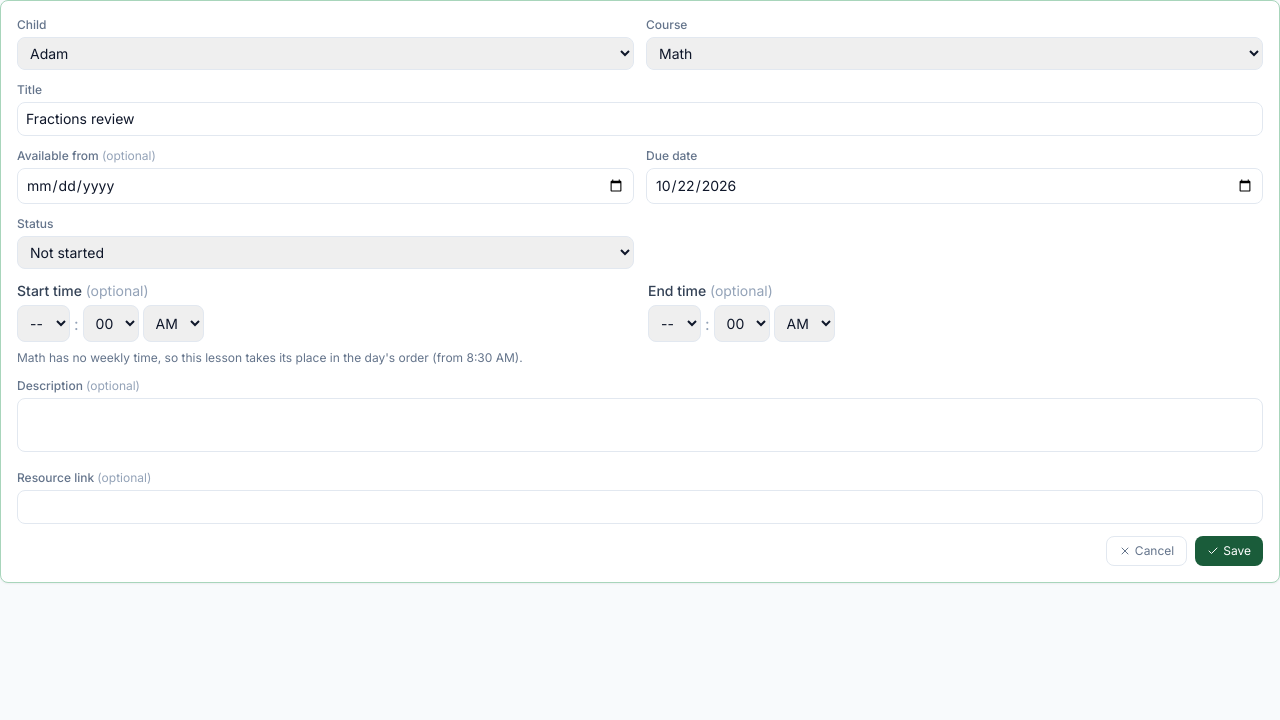
Test: LessonCard inline editor — lesson times › rejects a start time without an end time and does not save
Select "1" in the dropdown named "Start time hour": (44, 324) [17,305,70,342]
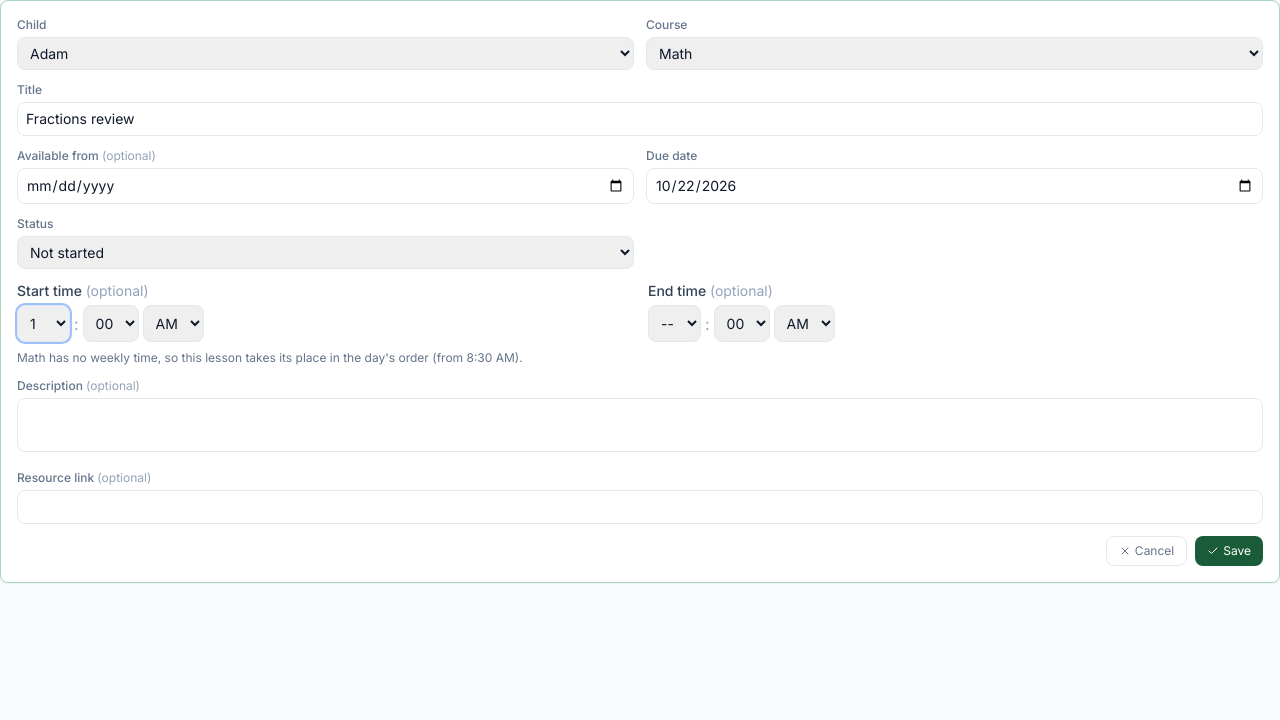
Select "00" in the dropdown named "Start time minute": (111, 324) [83,305,139,342]
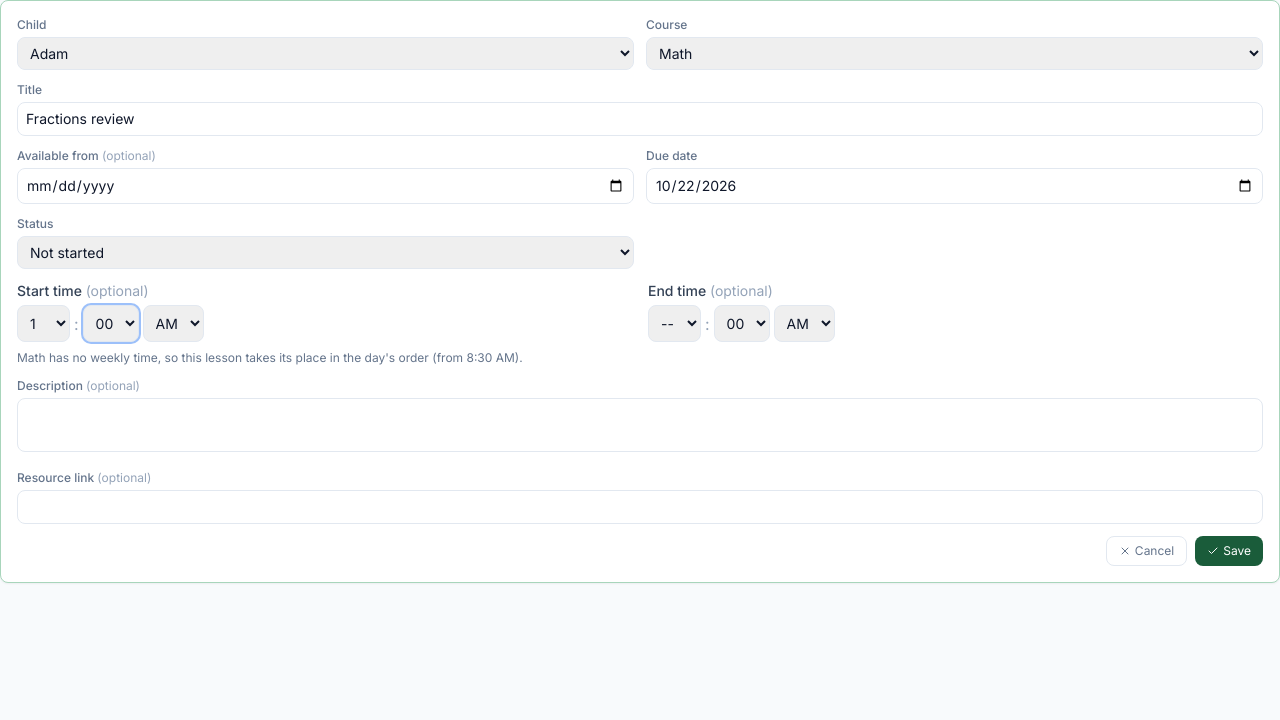
Select "PM" in the dropdown named "Start time period": (173, 324) [143,305,204,342]
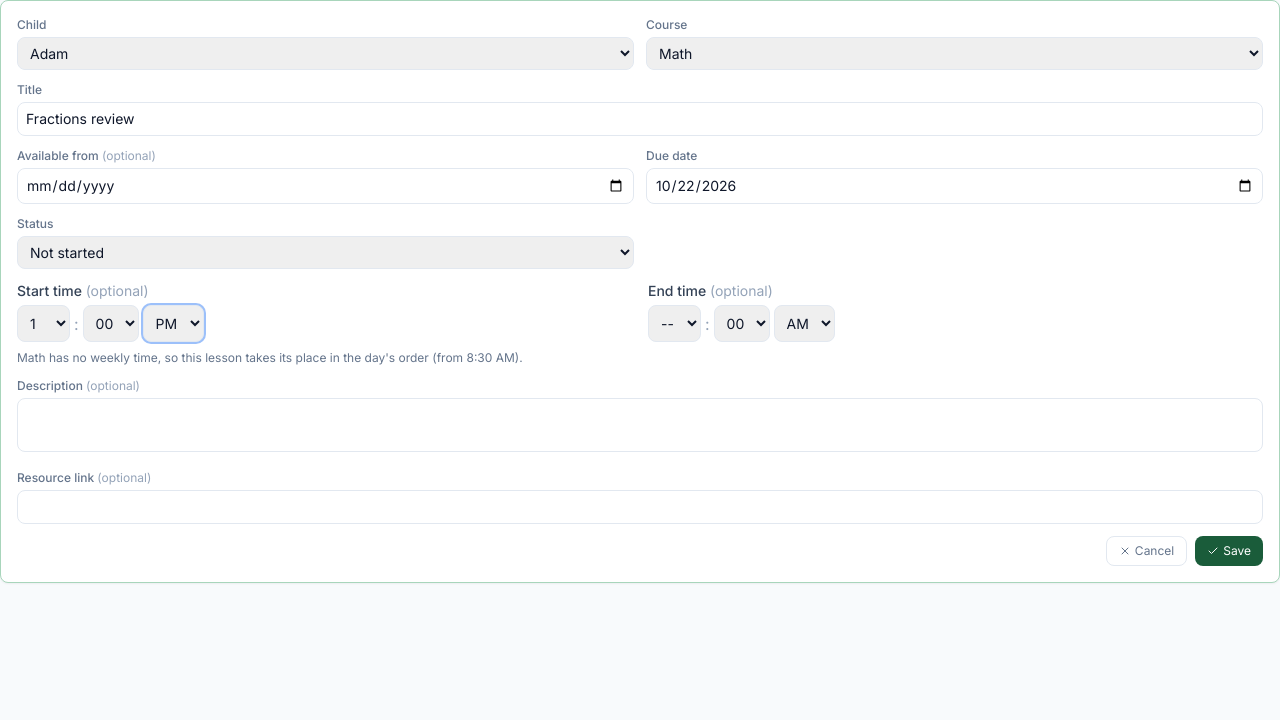
Click the button "Save": (1229, 551) [1195,536,1263,566]
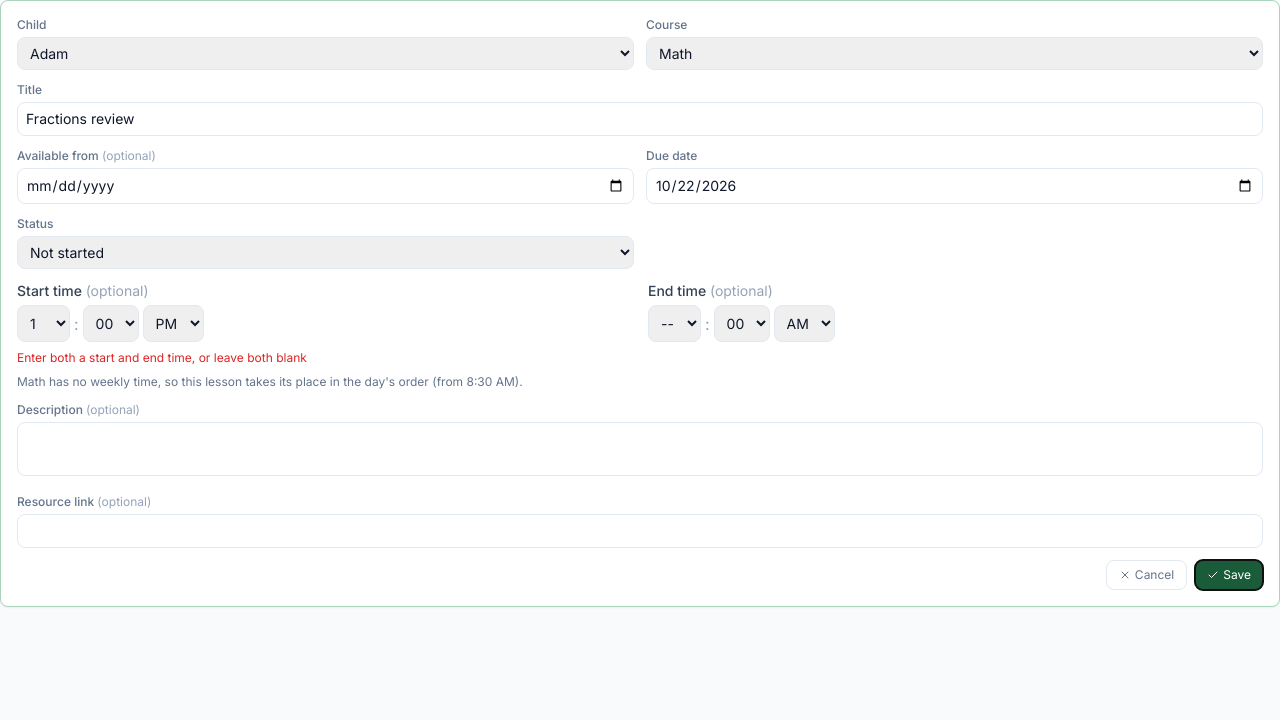
Check: the text "Enter both a start and end time, or leave both blank" is shown, box [17,350,307,365]
